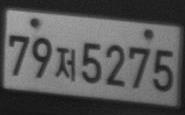2: (105, 43, 125, 87)
5: (152, 49, 174, 91), (80, 42, 101, 83)
7: (8, 33, 30, 75), (128, 46, 150, 88)
9: (31, 36, 53, 78)
저: (55, 46, 76, 82)
